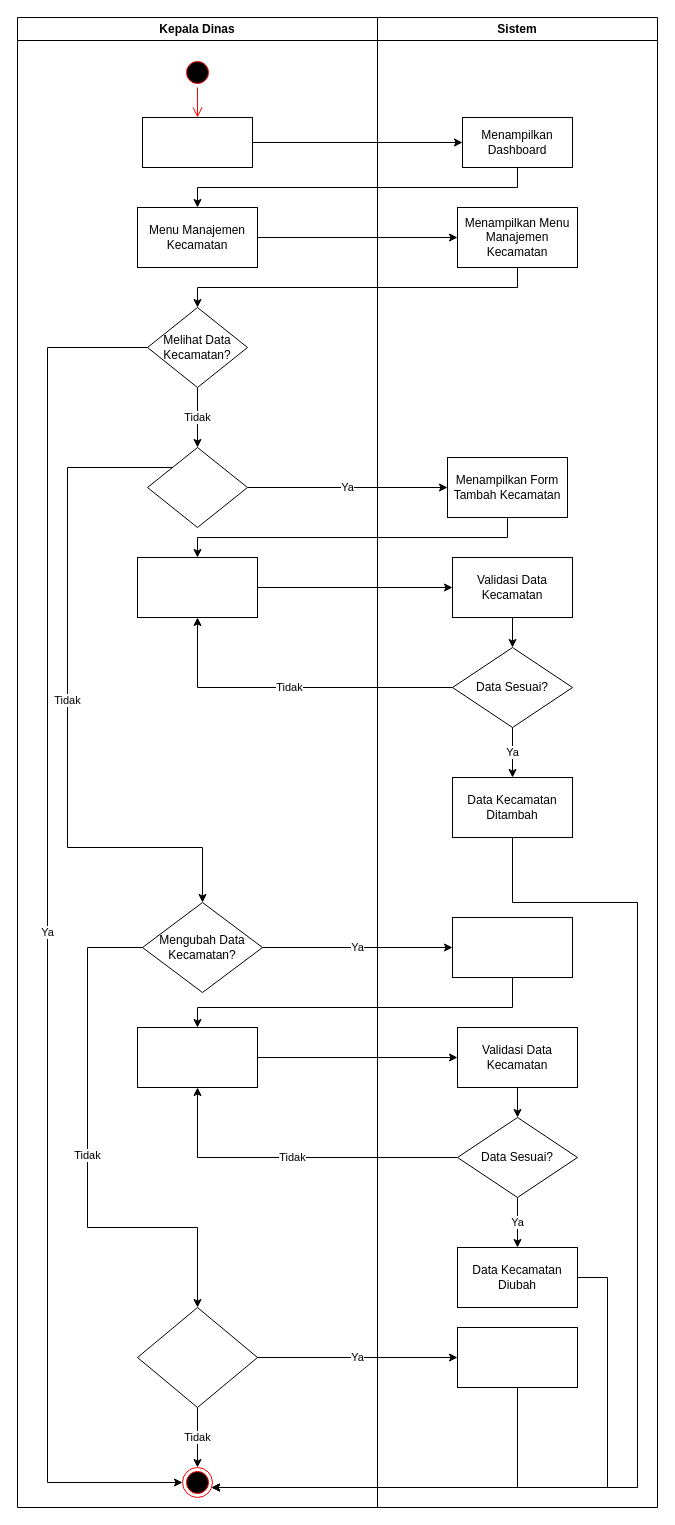
The diagram is 675 pixels wide and 1525 high, and some of its shapes have lost their labels. Here are the shapes that lost their labels. From the top down, the centre of each, then its label:
point 197,142: Login
point 197,487: Menambah Kecamatan?
point 197,587: Mengisi Form Tambah Kecamatan
point 512,947: Menampilkan Form Ubah Kecamatan
point 197,1057: Mengisi Form Ubah Kecamatan
point 197,1357: Menghapus Data Kecamatan?
point 517,1357: Menghapus Kecamatan
